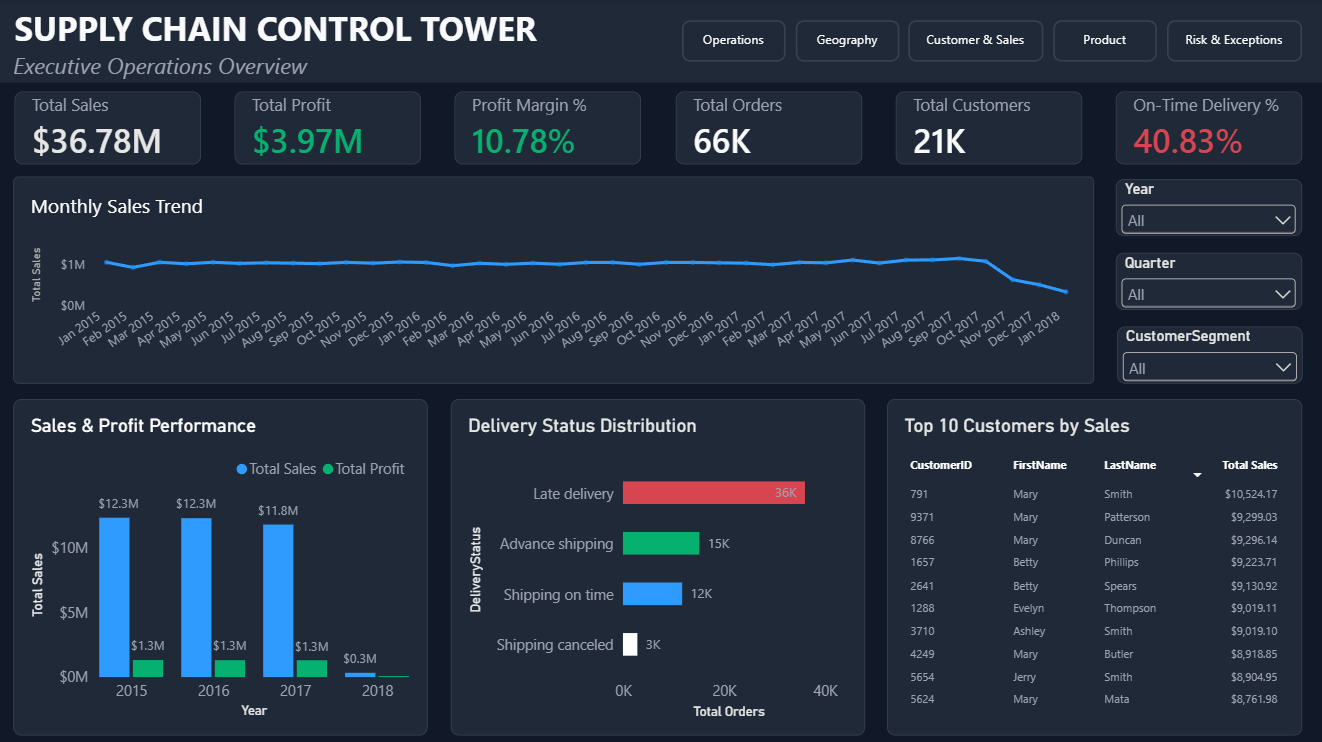

What the dashboard file says about the page in this screenshot:
{"tool":"powerbi","page":{"name":"Executive Overview","canvas":[1280,720],"ordinal":0},"visuals":[{"type":"shape","box":[0,0,1920.7,80.8],"z":0,"group":"g2"},{"type":"lineChart","title":"Monthly Sales Trend","fields":{"Category":["Dim_Date.Month Year"],"Y":["Dax_Measures.Total Sales"]},"box":[15.7,171.3,1043.6,200.3],"z":0},{"type":"textbox","box":[15.7,49.5,599.6,31.4],"z":1000,"group":"g2"},{"type":"clusteredColumnChart","title":"Sales & Profit Performance","fields":{"Category":["Dim_Date.Year"],"Y":["Dax_Measures.Total Sales","Dax_Measures.Total Profit"]},"box":[15.7,386.1,400,325],"z":1000},{"type":"textbox","box":[16.3,5.4,600,45.2],"z":2000,"group":"g2"},{"type":"barChart","title":"Delivery Status Distribution","fields":{"Category":["Dim_Shipping.DeliveryStatus"],"Y":["Dax_Measures.Total Orders"]},"box":[437.9,386.1,400,325],"z":2000},{"type":"cardVisual","fields":{"Data":["Dax_Measures.Total Sales"]},"box":[16.9,89.1,180,70],"z":3000,"group":"g1"},{"type":"tableEx","title":"Top 10 Customers by Sales","fields":{"Values":["Dim_Customer.CustomerID","Dim_Customer.FirstName","Dim_Customer.LastName","Dax_Measures.Total Sales"]},"box":[859,386.1,400.5,324.5],"z":3000},{"type":"group","id":"g1","title":"Group 1","box":[16.9,89.1,1243,70.1],"z":4000},{"type":"cardVisual","fields":{"Data":["Dax_Measures.Total Profit"]},"box":[229.5,89.1,180,70],"z":4000,"group":"g1"},{"type":"cardVisual","fields":{"Data":["Dax_Measures.Profit Margin %"]},"box":[442.1,89.1,180,70],"z":5000,"group":"g1"},{"type":"slicer","fields":{"Values":["Dim_Date.Year"]},"box":[1079.8,173.7,179.8,55],"z":5000},{"type":"cardVisual","fields":{"Data":["Dax_Measures.Total Orders"]},"box":[654.7,89.1,180,70],"z":6000,"group":"g1"},{"type":"slicer","fields":{"Values":["Dim_Date.Quarter"]},"box":[1080.1,244.9,179.8,55],"z":6000},{"type":"cardVisual","fields":{"Data":["Dax_Measures.Total Customers"]},"box":[867.3,89.1,180,70],"z":7000,"group":"g1"},{"type":"slicer","fields":{"Values":["Dim_Customer.CustomerSegment"]},"box":[1080.5,316.1,179,55],"z":7000},{"type":"group","id":"g2","title":"Group 2","box":[0,0,1920.7,80.8],"z":8000},{"type":"cardVisual","fields":{"Data":["Dax_Measures.On-Time Delivery %"]},"box":[1079.9,89.2,180,70],"z":8000,"group":"g1"},{"type":"actionButton","box":[660.9,20.5,100,40],"z":10000},{"type":"actionButton","box":[770.5,20.5,100,40],"z":11000},{"type":"actionButton","box":[880.1,20.5,130,40],"z":12000},{"type":"actionButton","box":[1019.7,20.5,100,40],"z":13000},{"type":"actionButton","box":[1129.2,20.5,130,40],"z":14000}]}

Visuals, with their boxes in screenshot pixels (x1, y1, x2, y2), scaled from the page's 1280x720 canvas onto the 1322x742 screenshot:
shape: 0,0,1321,83
"Monthly Sales Trend" lineChart: 16,177,1094,383
textbox: 16,51,635,83
"Sales & Profit Performance" clusteredColumnChart: 16,398,429,733
textbox: 17,6,637,52
"Delivery Status Distribution" barChart: 452,398,865,733
cardVisual - Dax_Measures.Total Sales: 17,92,203,164
"Top 10 Customers by Sales" tableEx: 887,398,1301,732
"Group 1" group: 17,92,1301,164
cardVisual - Dax_Measures.Total Profit: 237,92,423,164
cardVisual - Dax_Measures.Profit Margin %: 457,92,643,164
slicer - Dim_Date.Year: 1115,179,1301,236
cardVisual - Dax_Measures.Total Orders: 676,92,862,164
slicer - Dim_Date.Quarter: 1116,252,1301,309
cardVisual - Dax_Measures.Total Customers: 896,92,1082,164
slicer - Dim_Customer.CustomerSegment: 1116,326,1301,382
"Group 2" group: 0,0,1321,83
cardVisual - Dax_Measures.On-Time Delivery %: 1115,92,1301,164
actionButton: 683,21,786,62
actionButton: 796,21,899,62
actionButton: 909,21,1043,62
actionButton: 1053,21,1156,62
actionButton: 1166,21,1301,62
